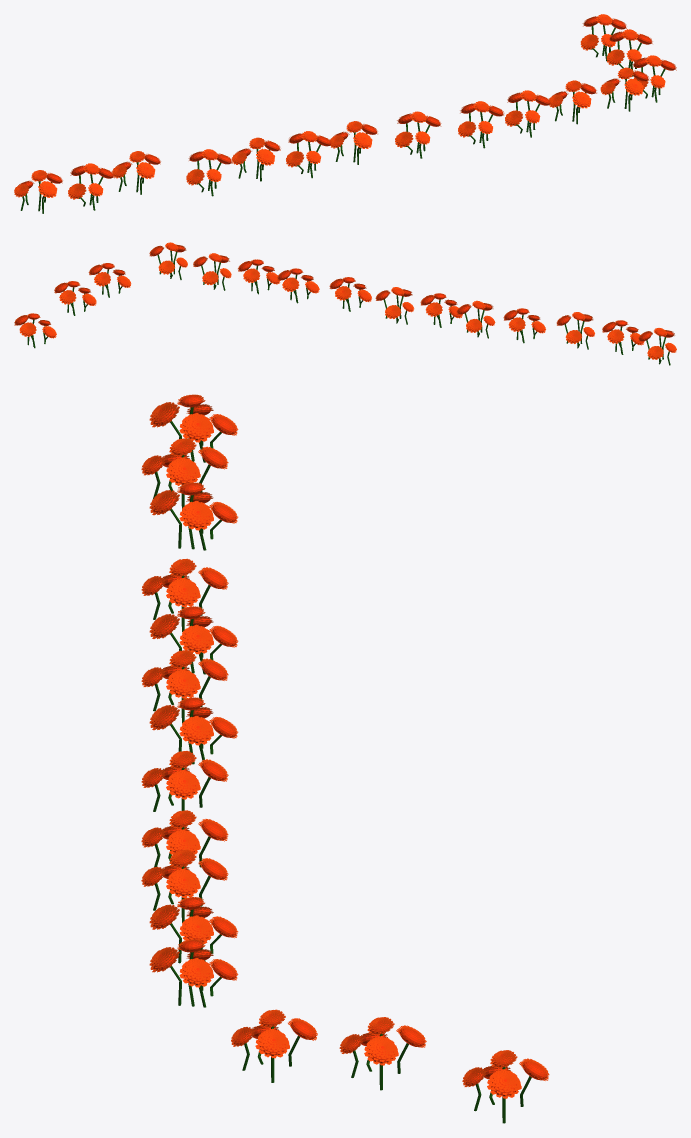
The model's file is florCamino1.obj.
3 renders of one model, top to bottom at view 1: azimuth 30°, elevation 25°; view 2: azimuth 150°, elevation 25°; view 3: azimuth 270°, elevation 25°, orthographic. The views are drawn at different scales.
Parts seen in each view (by area): view 1: Plano.530, Plano.532, Plano.535, Plano.528, Plano.534, Plano.536, Plano.539, Plano.531, Plano.527, Plano.553, Plano.529, Plano.537 (+3 smaller); view 2: Plano.531, Plano.537, Plano.533, Plano.540, Plano.553, Plano.535, Plano.527, Plano.530, Plano.538, Plano.539, Plano.529, Plano.536 (+3 smaller); view 3: Plano.539, Plano.529, Plano.533, Plano.553, Plano.540, Plano.527, Plano.531, Plano.538, Plano.534, Plano.537, Plano.536, Plano.530 (+3 smaller).
Part boxes in pixels (box(x1,y1,x2,y2)): Plano.530: box(186, 149, 232, 196); Plano.532: box(286, 131, 332, 178); Plano.535: box(458, 101, 504, 148); Plano.528: box(68, 163, 114, 210); Plano.534: box(395, 111, 441, 158); Plano.536: box(505, 90, 551, 137); Plano.539: box(600, 67, 649, 111); Plano.531: box(232, 137, 280, 181); Plano.527: box(14, 170, 62, 213); Plano.553: box(580, 14, 626, 61); Plano.529: box(112, 151, 160, 194); Plano.537: box(549, 80, 596, 124); Plano.531: box(456, 300, 495, 338); Plano.537: box(193, 253, 231, 290); Plano.533: box(375, 287, 414, 324); Plano.540: box(54, 281, 96, 315); Plano.553: box(14, 313, 56, 348); Plano.535: box(277, 268, 319, 303); Plano.527: box(638, 328, 676, 365); Plano.530: box(503, 308, 545, 343); Plano.538: box(88, 263, 131, 297); Plano.539: box(149, 242, 187, 279); Plano.529: box(556, 312, 594, 349); Plano.536: box(238, 259, 280, 294); Plano.539: box(149, 939, 238, 1007); Plano.529: box(149, 482, 238, 550); Plano.533: box(149, 697, 238, 764); Plano.553: box(462, 1050, 549, 1123); Plano.540: box(339, 1017, 426, 1090); Plano.527: box(149, 394, 238, 462); Plano.531: box(149, 606, 238, 674); Plano.538: box(231, 1009, 317, 1082); Plano.534: box(141, 751, 228, 811); Plano.537: box(149, 897, 238, 963); Plano.536: box(141, 849, 228, 922); Plano.530: box(141, 558, 228, 631).
Size of the model in its own units: 2.89 by 0.4451 by 0.8746.
